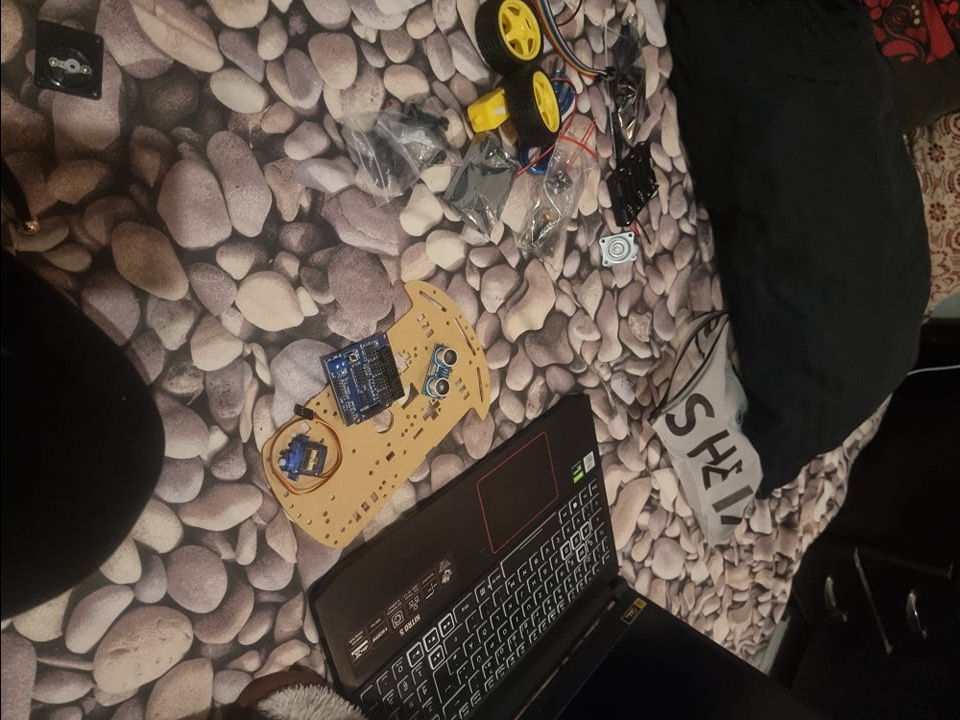5V EXPANSION: (320, 330, 404, 427)
BATTERY BOX: (605, 146, 664, 227)
SENSOR: (423, 343, 459, 400)
